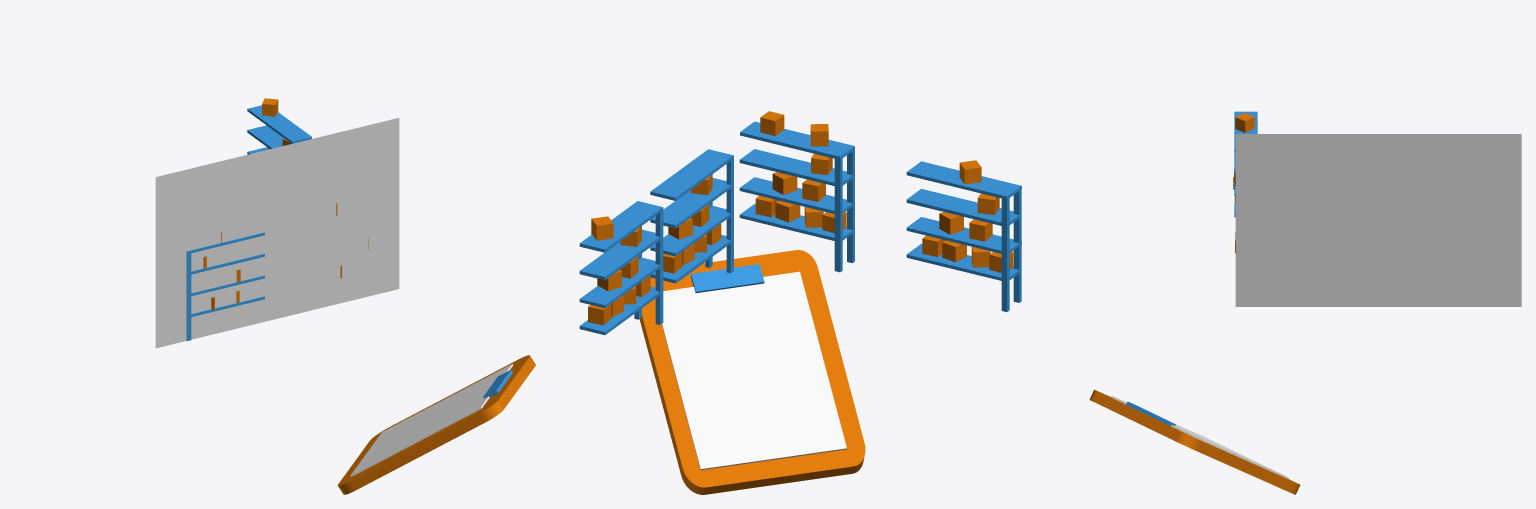
The model's file is warehouse.glb.
3 views of the same model, side by side, from view 1: azimuth 30°, elevation 25°; view 2: azimuth 150°, elevation 25°; view 3: azimuth 270°, elevation 25° (orthographic). The views are drawn at different scales.
Parts seen in each view (by area): view 1: Cube.014, Cube.030, Cube.058, Cube.003; view 2: Cube.058, Cube.030, Cube.039, Cube.025, Cube.024, Cube.047, Cube.046, Cube.003, Cube.004, Cube.059, Cube.038, Cube.023 (+13 smaller); view 3: Cube.014, Cube.030, Cube.058.
Part boxes in pixels (<box>): Cube.014: <box>155,118,399,348</box>; Cube.030: <box>337,355,535,494</box>; Cube.058: <box>350,364,512,476</box>; Cube.003: <box>247,105,311,142</box>; Cube.058: <box>655,271,846,470</box>; Cube.030: <box>639,250,865,494</box>; Cube.039: <box>650,149,733,200</box>; Cube.025: <box>906,161,1021,198</box>; Cube.024: <box>906,189,1019,225</box>; Cube.047: <box>739,149,852,185</box>; Cube.046: <box>740,121,854,158</box>; Cube.003: <box>579,201,662,252</box>; Cube.004: <box>579,229,659,280</box>; Cube.059: <box>690,264,764,292</box>; Cube.038: <box>650,178,730,228</box>; Cube.023: <box>906,217,1021,253</box>; Cube.014: <box>1235,134,1521,306</box>; Cube.030: <box>1089,389,1300,494</box>; Cube.058: <box>1111,396,1288,478</box>.
Size of what is drawn, in the model's own units: 10.8 by 10.32 by 11.32.
